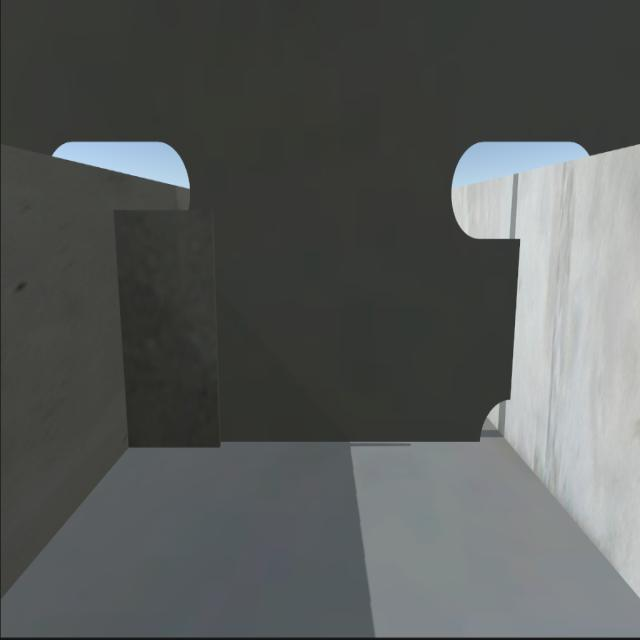fillet_hole: (476, 390, 513, 448)
fillet_yong_jeop_jang: (127, 428, 479, 449)
longi_yong_jeop_jang: (109, 215, 135, 446), (505, 236, 523, 400)
plate_CP01: (118, 205, 223, 445)
